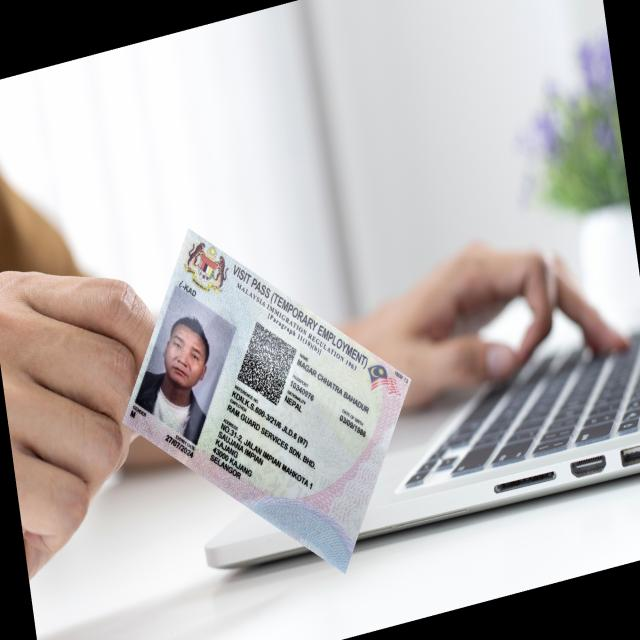ikad-temp: (121, 226, 412, 574)
